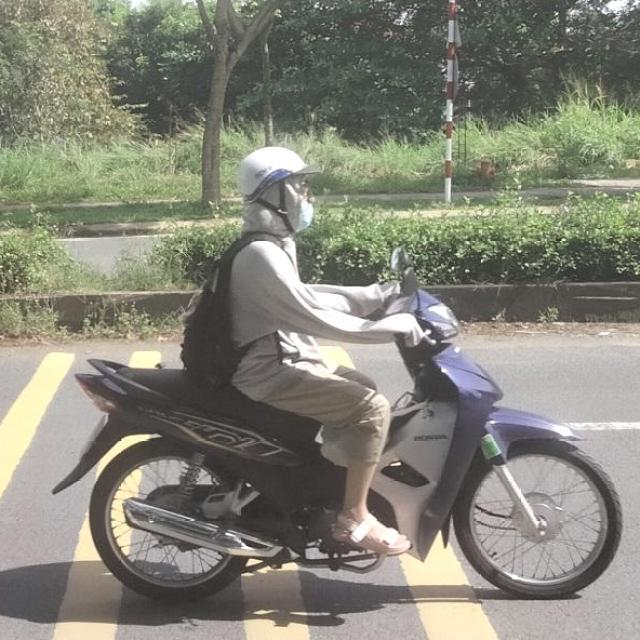Helmet: (238, 147, 320, 240)
